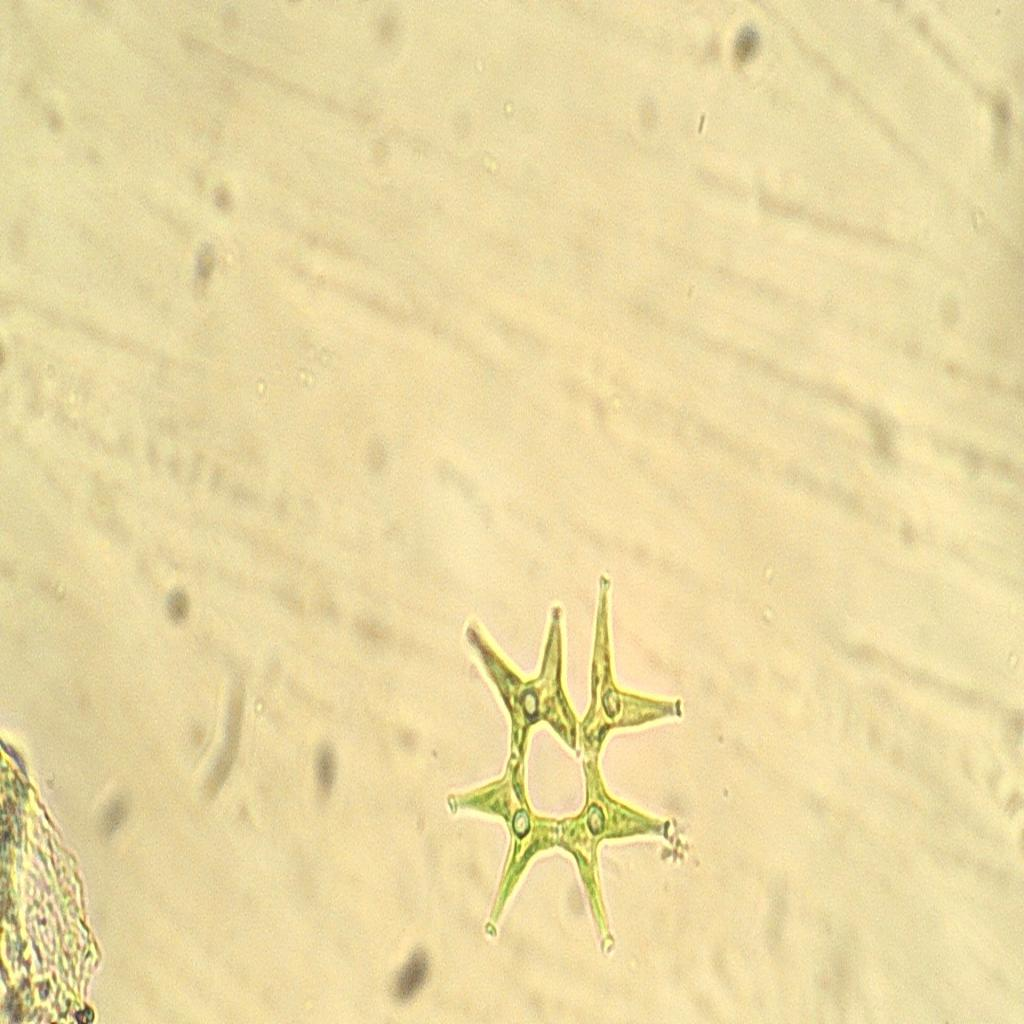Pediastrum_75FI: (440, 562, 702, 971)
